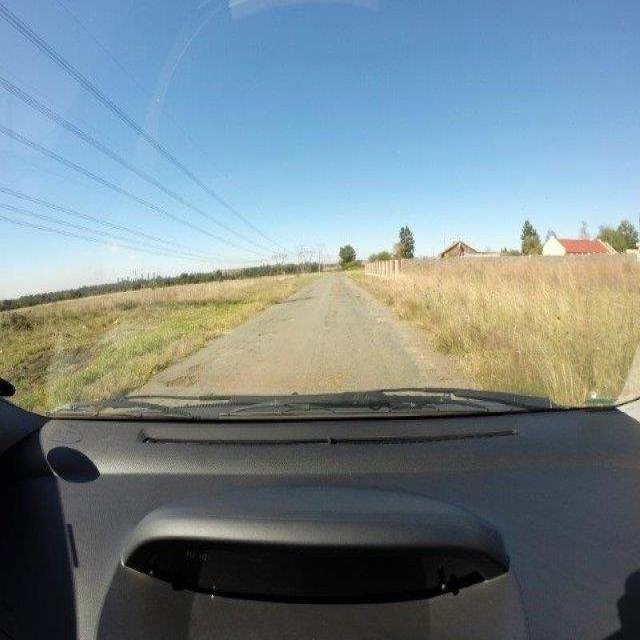lubang: (163, 362, 209, 392)
